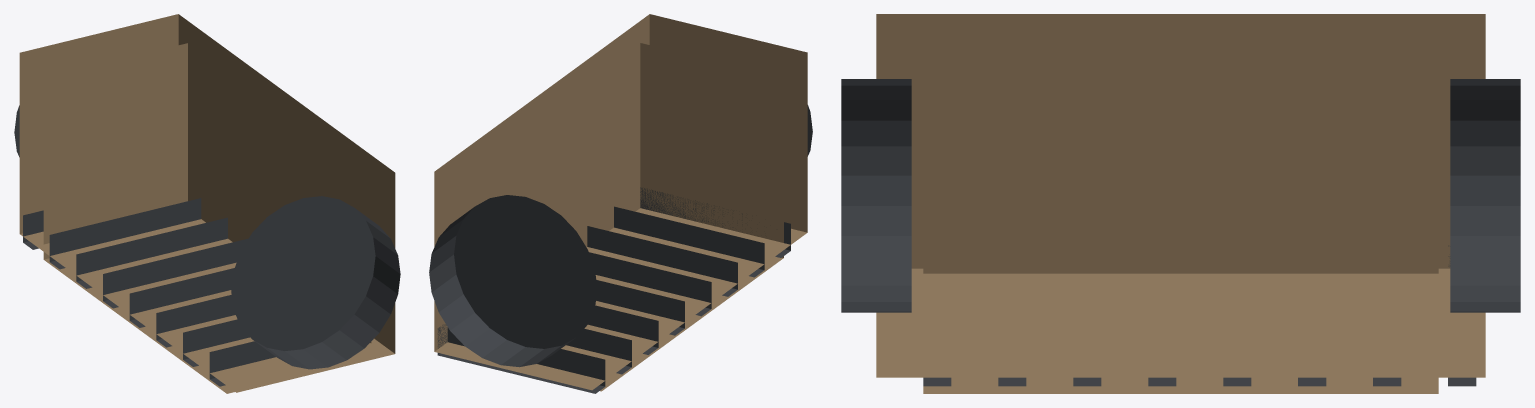
Rendered from shotgun_bolt.glb.
The picture shows the model from 3 angles, left to right: view 1: azimuth 30°, elevation 25°; view 2: azimuth 150°, elevation 25°; view 3: azimuth 270°, elevation 25°; orthographic projection. The views are drawn at different scales.
Parts seen in each view (by area): view 1: shotgun_bolt; view 2: shotgun_bolt; view 3: shotgun_bolt.
Part boxes in pixels (bbox=[...]): shotgun_bolt: bbox=[14, 14, 400, 393]; shotgun_bolt: bbox=[429, 14, 812, 393]; shotgun_bolt: bbox=[841, 14, 1520, 393].
Size of the model in its own units: 1.1 by 1.3 by 2.9.
